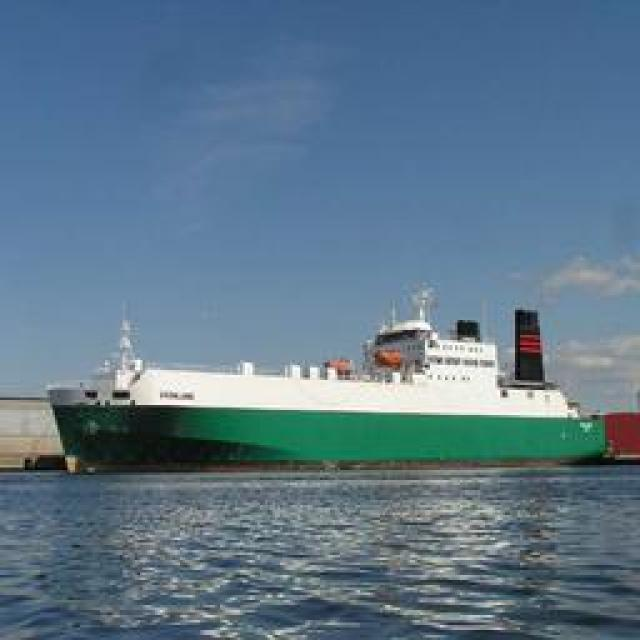CIV_Ship: (49, 291, 599, 471)
